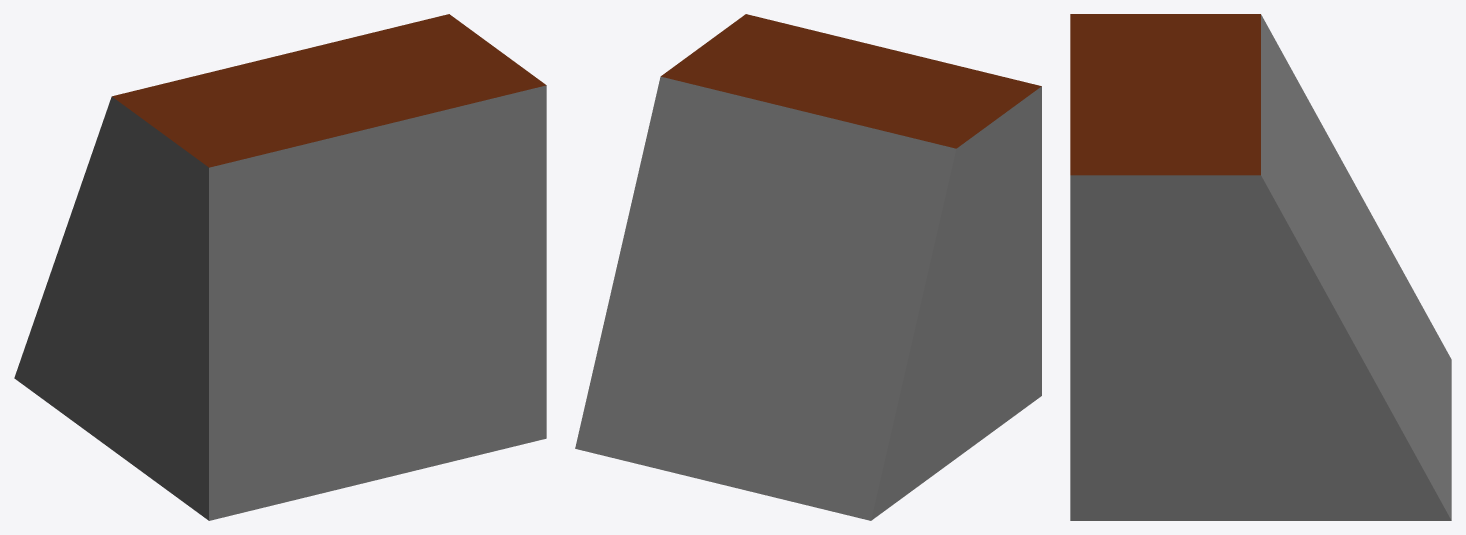
Rendered from Wall_tall.obj.
3 renders of one model, left to right at view 1: azimuth 30°, elevation 25°; view 2: azimuth 150°, elevation 25°; view 3: azimuth 270°, elevation 25°, orthographic. The views are drawn at different scales.
Parts seen in each view (by area): view 1: cuboid; view 2: cuboid; view 3: cuboid.
Boxes of the visible parts, <box> form: cuboid: <box>14,14,546,520</box>; cuboid: <box>575,14,1041,520</box>; cuboid: <box>1070,14,1451,520</box>.
Bounding box in the file's own units: 1 × 1 × 1.
1 material, 1 textured.
